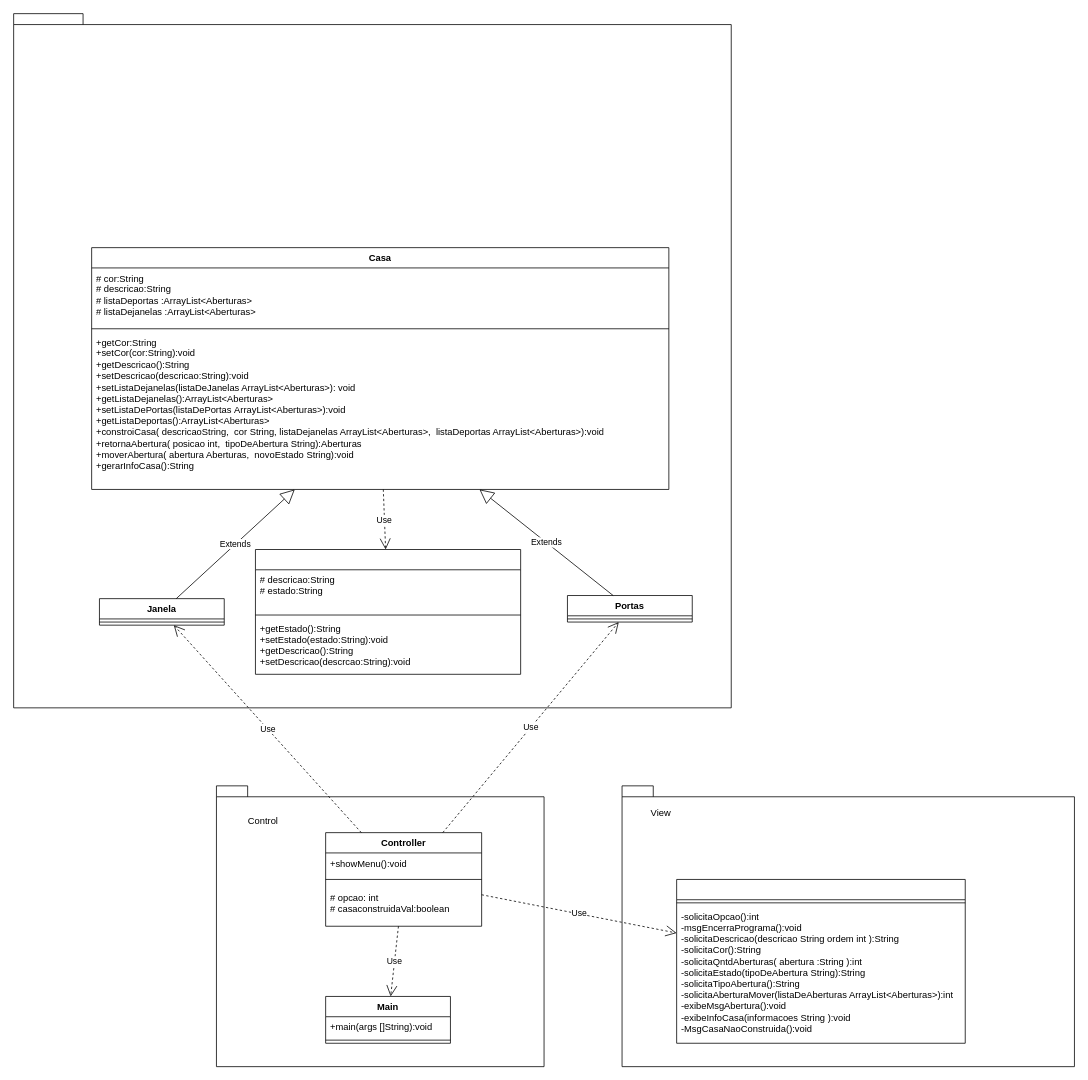
The diagram is 1088 pixels wide and 1080 high, and some of its shapes have lost their labels. The shapes that lost their labels are listed below. From the top down, each one's box as (x1, y1, x2, y2) in pixels, then its label:
(255, 549, 521, 674): Aberturas
(676, 879, 965, 1043): EntradaSaida
